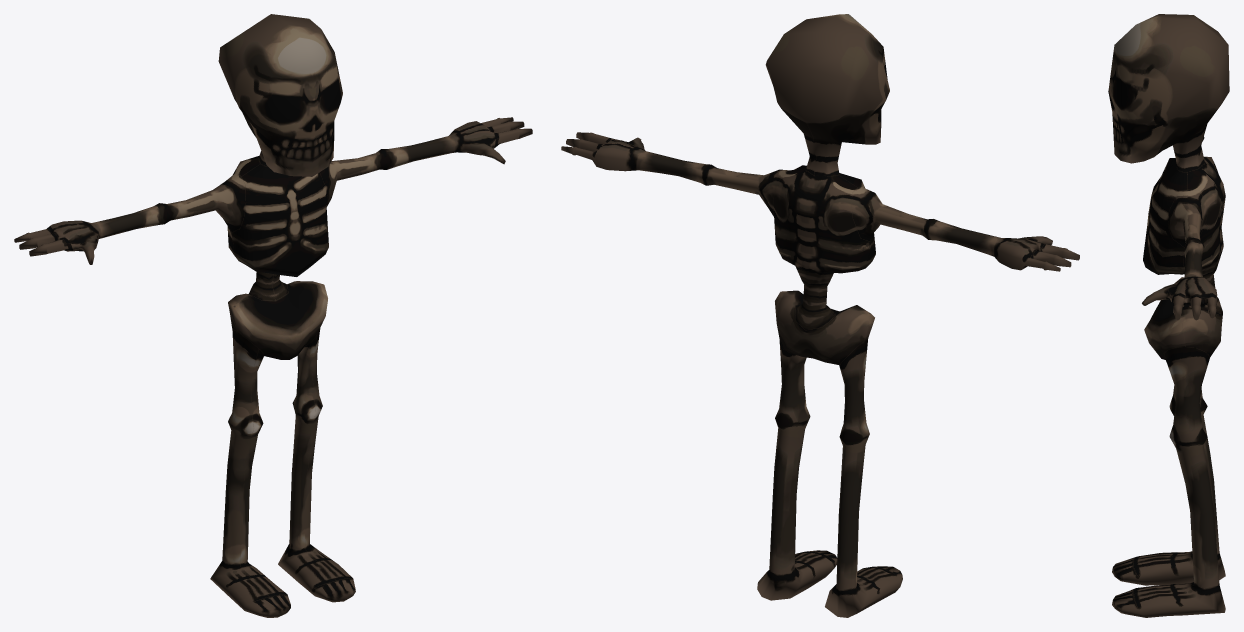
File: skeleton.fbx
The picture shows the model from 3 angles, left to right: view 1: azimuth 30°, elevation 25°; view 2: azimuth 150°, elevation 25°; view 3: azimuth 270°, elevation 25°; orthographic projection.
Parts seen in each view (by area): view 1: skeleton2:RoadKillOut; view 2: skeleton2:RoadKillOut; view 3: skeleton2:RoadKillOut.
Boxes of the visible parts, bbox=[...] form: skeleton2:RoadKillOut: bbox=[14, 14, 532, 617]; skeleton2:RoadKillOut: bbox=[561, 14, 1079, 617]; skeleton2:RoadKillOut: bbox=[1108, 14, 1229, 617].
Size of the model in its own units: 10.81 by 11.75 by 2.23.
